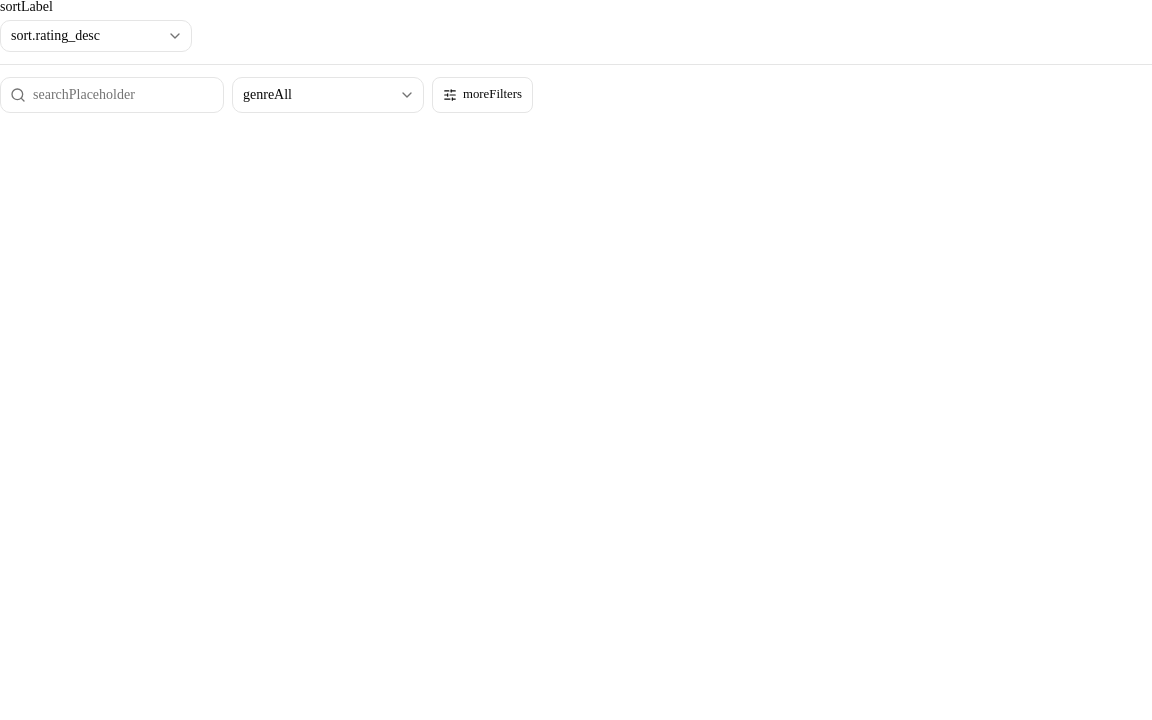
it: AdminCatalogFilters › shows a visible label above each range field inside the more-filters popover
Click the button "moreFilters". click: click(482, 95)
box: [432,77,533,113]
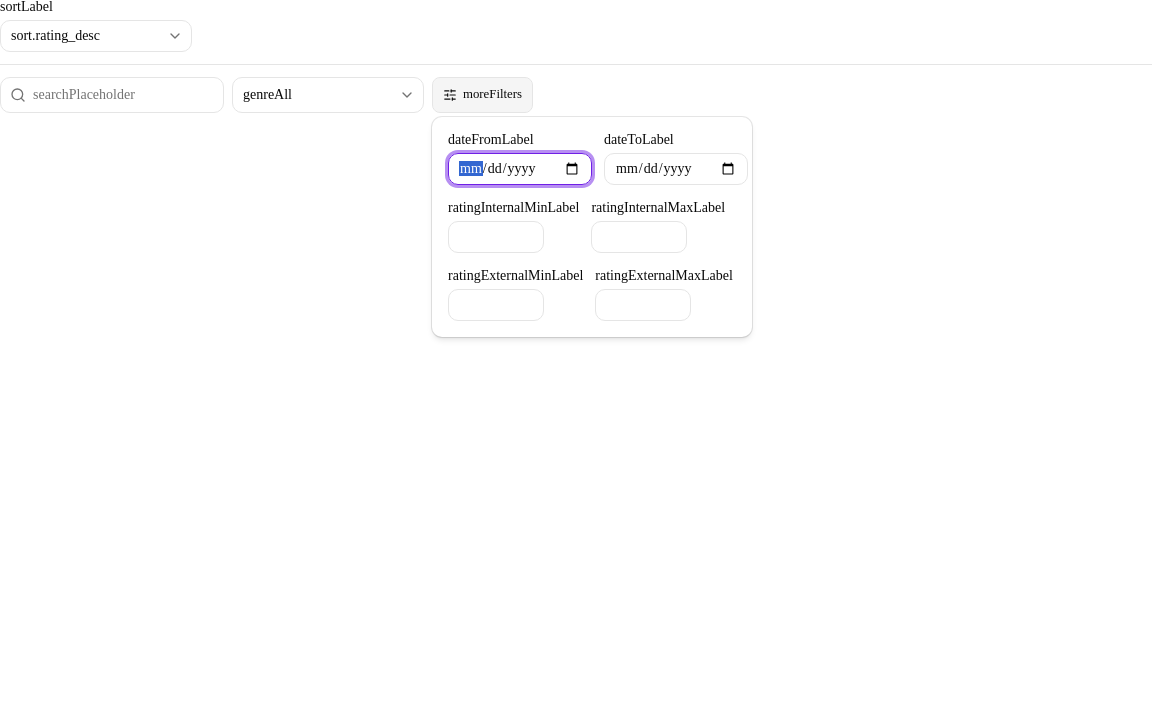
Now the text "dateFromLabel" is shown, box [448,132,534,147]
Now the text "dateToLabel" is shown, box [604,132,674,147]
Now the text "ratingInternalMinLabel" is shown, box [448,201,579,215]
